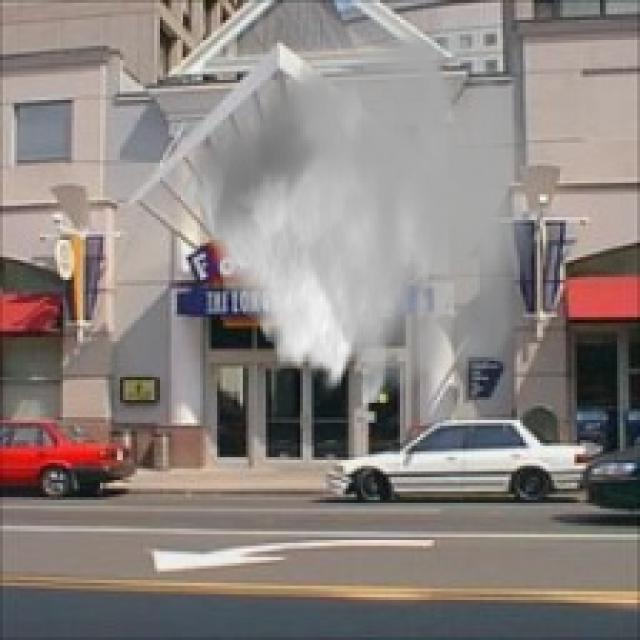smoke: (180, 28, 534, 403)
